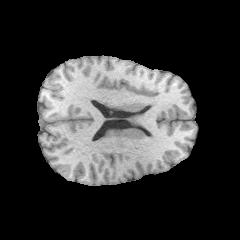glioma: (100, 103, 156, 148)
